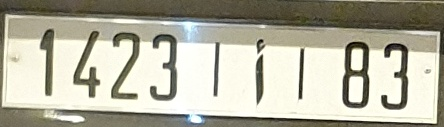1: (38, 28, 57, 97)
2: (109, 31, 141, 100)
3: (380, 42, 410, 111), (149, 32, 178, 101)
4: (71, 28, 102, 99)
8: (340, 39, 371, 110)
a: (252, 39, 267, 106)
